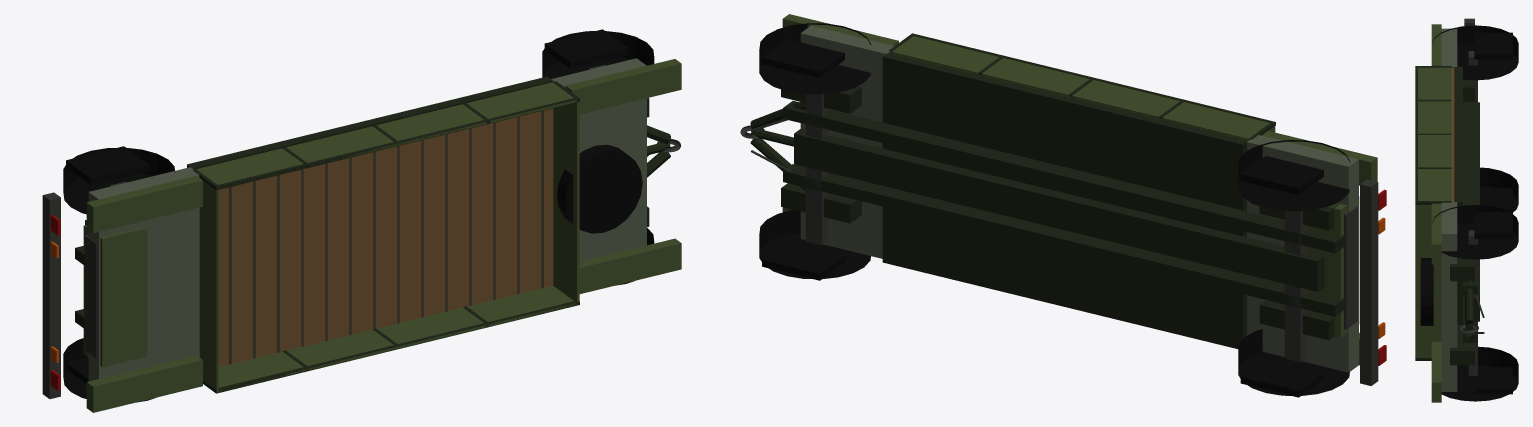
File: m989a1_hemat_empty_cm.obj
The picture shows the model from 3 angles, left to right: view 1: azimuth 30°, elevation 25°; view 2: azimuth 150°, elevation 25°; view 3: azimuth 270°, elevation 25°; orthographic projection. The views are drawn at different scales.
Visible parts, largest first — view 1: M989A1_HEMAT_Empty_Cargo_Trailer; view 2: M989A1_HEMAT_Empty_Cargo_Trailer; view 3: M989A1_HEMAT_Empty_Cargo_Trailer.
Boxes of the visible parts, box(x1,y1,x2,y2) form: M989A1_HEMAT_Empty_Cargo_Trailer: box(42, 29, 681, 412); M989A1_HEMAT_Empty_Cargo_Trailer: box(740, 14, 1386, 397); M989A1_HEMAT_Empty_Cargo_Trailer: box(1415, 18, 1518, 402).
Size of the model in its own units: 785 by 250 by 145.
